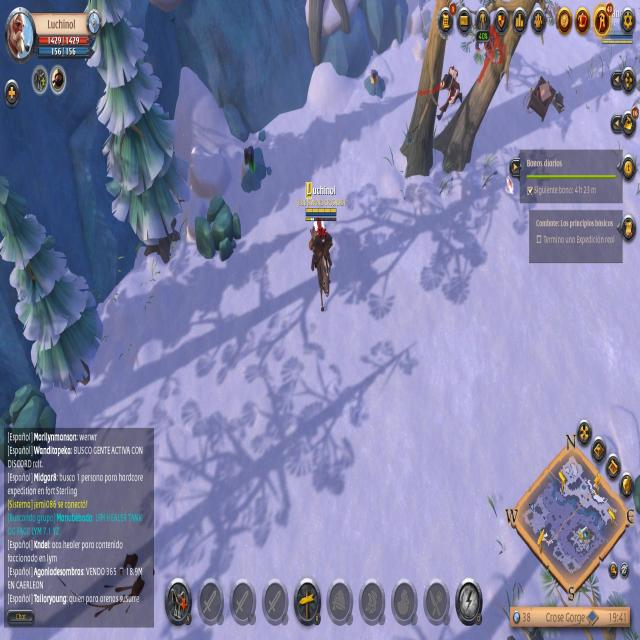piedra_cobre: (364, 66, 391, 106)
